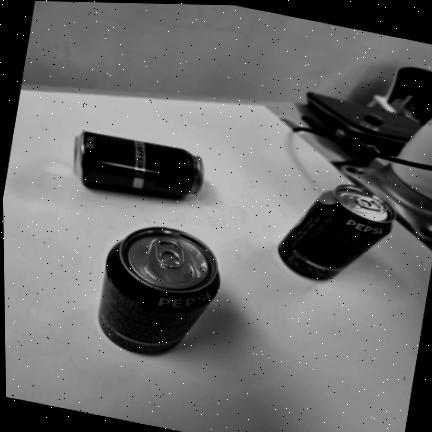can_coke_decaf: (75, 132, 203, 196)
can_pepsi: (99, 227, 220, 353)
can_pepsi_zero: (279, 185, 395, 280)
